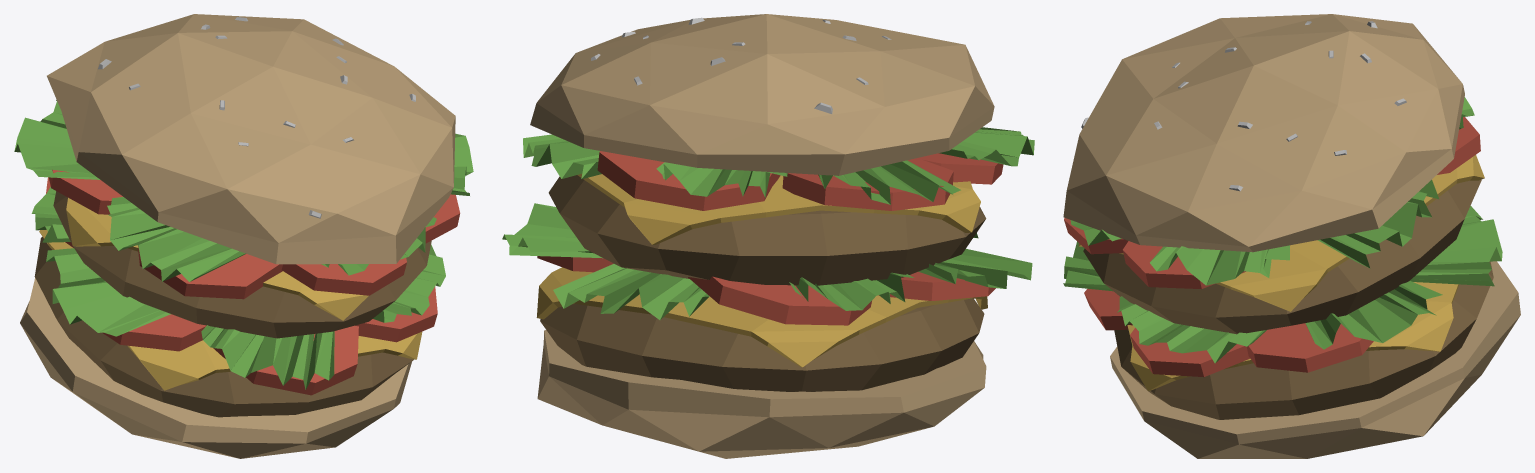
The model's file is BurgerLarge.fbx.
3 views of the same model, side by side, from view 1: azimuth 30°, elevation 25°; view 2: azimuth 150°, elevation 25°; view 3: azimuth 270°, elevation 25° (orthographic). The views are drawn at different scales.
Parts seen in each view (by area): view 1: BurgerLarge; view 2: BurgerLarge; view 3: BurgerLarge.
Part boxes in pixels (x1,y1,x2,y2): BurgerLarge: (14, 14, 473, 458); BurgerLarge: (502, 14, 1034, 458); BurgerLarge: (1063, 14, 1520, 458).
Size of the model in its own units: 81.88 by 69.8 by 78.92.
